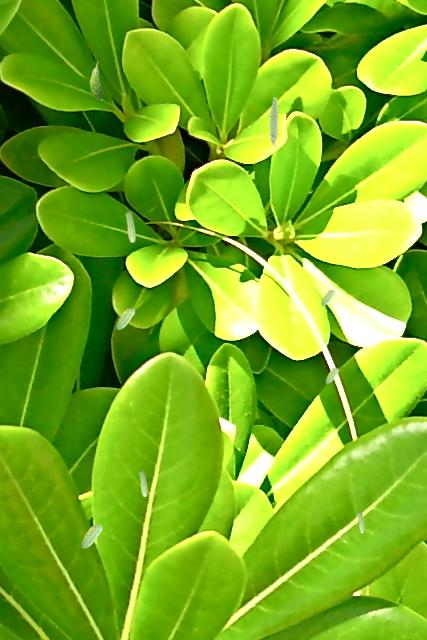ampalaya: (89, 61, 103, 100), (81, 524, 102, 549), (269, 96, 278, 146), (116, 308, 135, 330), (125, 210, 136, 242), (138, 469, 148, 497), (325, 367, 339, 384), (321, 289, 335, 306), (357, 510, 365, 533)
